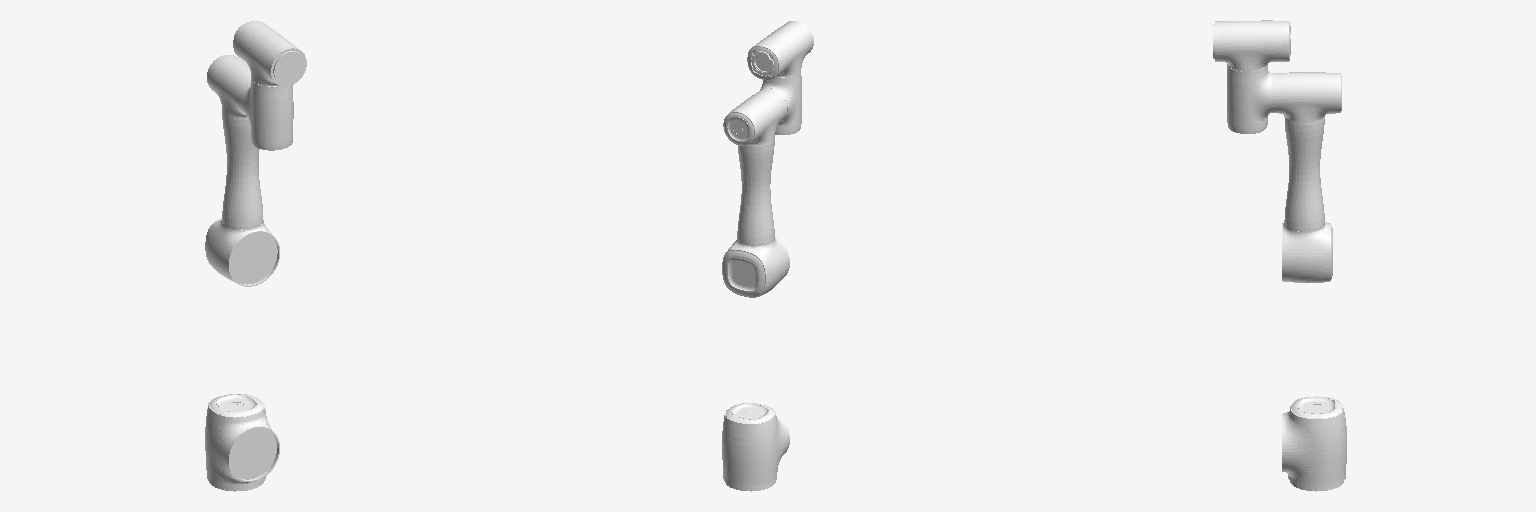
The robot description file, URDF, robot "cr5_robot":
<?xml version="1.0" encoding="utf-8"?>
<!-- This URDF was automatically created by SolidWorks to URDF Exporter! Originally created by [author] ([email redacted]) 
     Commit Version: 1.6.0-1-g15f4949  Build Version: 1.6.7594.29634
     For more information, please see http://wiki.ros.org/sw_urdf_exporter -->
<robot name="cr5_robot">
  <link name="dummy_link" />
  <link name="base_link">
    <inertial>
      <origin xyz="-8.0961E-06 0.0019103 0.028995" rpy="0 0 0" />
      <mass value="0.90882" />
      <inertia
        ixx="0.0014545"
        ixy="4.2968E-08"
        ixz="-1.8199E-07"
        iyy="0.001345"
        iyz="-6.243E-06"
        izz="0.002155" />
    </inertial>
    <visual>
      <origin xyz="0 0 0" rpy="0 0 0" />
      <geometry>
        <mesh filename="package://cr5_description/meshes/cr5/base_link.dae" />
      </geometry>
      <material
        name="">
        <color rgba="0 0 0 1" />
      </material>
    </visual>
    <collision>
      <origin xyz="0 0 0" rpy="0 0 0" />
      <geometry>
        <mesh filename="package://cr5_description/meshes/cr5/base_link.dae" />
      </geometry>
    </collision>
  </link>

  <joint name="dummy_joint" type="fixed">
    <parent link="dummy_link" />
    <child  link="base_link" />
  </joint>


  <link  name="Link1">
    <inertial>
      <origin xyz="-8.7268E-07 -0.0032576 -0.0076748" rpy="0 0 0" />
      <mass value="1.6123" />
      <inertia
        ixx="0.0029122"
        ixy="5.7387E-09"
        ixz="1.9945E-08"
        iyy="0.0028191"
        iyz="0.00044094"
        izz="0.0032836" />
    </inertial>
    <visual>
      <origin xyz="0 0 0" rpy="0 0 0" />
      <geometry>
        <mesh filename="package://cr5_description/meshes/cr5/Link1.dae" />
      </geometry>
      <material
        name="">
        <color rgba="1 1 1 1" />
      </material>
    </visual>
    <collision>
      <origin xyz="0 0 0" rpy="0 0 0" />
      <geometry>
        <mesh filename="package://cr5_description/meshes/cr5/Link1.dae" />
      </geometry>
    </collision>
  </link>

  <joint name="joint1" type="revolute">
    <origin xyz="0 0 0.147" rpy="0 0 0" />
    <parent link="base_link" />
    <child link="Link1" />
    <axis xyz="0 0 1" />
    <limit lower="-3.14" upper="3.14" effort="0" velocity="0" />
  </joint>

  <link name="Link2">
    <inertial>
      <origin xyz="-0.21351 -1.3842E-06 0.14252" rpy="0 0 0" />
      <mass value="5.5186" />
      <inertia
        ixx="0.0085919"
        ixy="7.5552E-07"
        ixz="-7.8922E-07"
        iyy="0.027553"
        iyz="1.4629E-07"
        izz="0.028294" />
    </inertial>
    <visual>
      <origin xyz="0 0 0" rpy="0 0 0" />
      <geometry>
        <mesh filename="package://cr5_description/meshes/cr5/Link2.dae" />
      </geometry>
      <material
        name="">
        <color rgba="1 1 1 1" />
      </material>
    </visual>
    <collision>
      <origin xyz="0 0 0" rpy="0 0 0" />
      <geometry>
        <mesh filename="package://cr5_description/meshes/cr5/Link2.dae" />
      </geometry>
    </collision>
  </link>

  <joint name="joint2" type="revolute">
    <origin xyz="0 0 0" rpy="1.5708 1.5708 0" />
    <parent link="Link1" />
    <child  link="Link2" />
    <axis xyz="0 0 1" />
    <limit lower="-3.14" upper="3.14" effort="0" velocity="0" />
  </joint>

  <link name="Link3">
    <inertial>
      <origin xyz="-0.15231 -1.4079E-07 0.022693" rpy="0 0 0" />
      <mass value="2.8536" />
      <inertia
        ixx="0.0032608"
        ixy="-3.2147E-10"
        ixz="0.00012363"
        iyy="0.0092967"
        iyz="2.9478E-10"
        izz="0.0095552" />
    </inertial>
    <visual>
      <origin xyz="0 0 0" rpy="0 0 0" />
      <geometry>
        <mesh filename="package://cr5_description/meshes/cr5/Link3.dae" />
      </geometry>
      <material
        name="">
        <color rgba="1 1 1 1" />
      </material>
    </visual>
    <collision>
      <origin xyz="0 0 0"  rpy="0 0 0" />
      <geometry>
        <mesh filename="package://cr5_description/meshes/cr5/Link3.dae" />
      </geometry>
    </collision>
  </link>

  <joint name="joint3" type="revolute">
    <origin xyz="-0.427 0 0" rpy="0 0 0" />
    <parent link="Link2" />
    <child link="Link3" />
    <axis  xyz="0 0 1" />
    <limit lower="-3.14"  upper="3.14"  effort="0" velocity="0" />
  </joint>

  <link name="Link4">
    <inertial>
      <origin xyz="-3.2386E-07 -0.002077 -0.0015548" rpy="0 0 0" />
      <mass value="0.67058" />
      <inertia
        ixx="0.00066939"
        ixy="4.1975E-10"
        ixz="-1.0734E-08"
        iyy="0.00065424"
        iyz="0.00011081"
        izz="0.00065365" />
    </inertial>
    <visual>
      <origin xyz="0 0 0" rpy="0 0 0" />
      <geometry>
        <mesh filename="package://cr5_description/meshes/cr5/Link4.dae" />
      </geometry>
      <material name="">
        <color rgba="1 1 1 1" />
      </material>
    </visual>
    <collision>
      <origin xyz="0 0 0" rpy="0 0 0" />
      <geometry>
        <mesh filename="package://cr5_description/meshes/cr5/Link4.dae" />
      </geometry>
    </collision>
  </link>

  <joint name="joint4" type="revolute">
    <origin xyz="-0.357 0 0.141" rpy="0 0 -1.5708" />
    <parent link="Link3" />
    <child link="Link4" />
    <axis xyz="0 0 1" />
    <limit lower="-3.14" upper="3.14" effort="0" velocity="0" />
  </joint>
  <link
    name="Link5">
    <inertial>
      <origin xyz="-3.7738E-07 -0.0045777 -0.0012971" rpy="0 0 0" />
      <mass value="0.7269" />
      <inertia
        ixx="0.00073069"
        ixy="-5.7806E-09"
        ixz="6.7132E-09"
        iyy="0.00071195"
        iyz="-0.00011926"
        izz="0.00071391" />
    </inertial>
    <visual>
      <origin xyz="0 0 0" rpy="0 0 0" />
      <geometry>
        <mesh filename="package://cr5_description/meshes/cr5/Link5.dae" />
      </geometry>
      <material name="">
        <color rgba="1 1 1 1" />
      </material>
    </visual>
    <collision>
      <origin xyz="0 0 0" rpy="0 0 0" />
      <geometry>
        <mesh filename="package://cr5_description/meshes/cr5/Link5.dae" />
      </geometry>
    </collision>
  </link>

  <joint name="joint5" type="revolute">
    <origin xyz="0 -0.116 0" rpy="1.5708 0 0" />
    <parent link="Link4" />
    <child link="Link5" />
    <axis xyz="0 0 1" />
    <limit lower="-3.14" upper="3.14" effort="0" velocity="0" />
  </joint>

  <link name="Link6">
    <inertial>
      <origin xyz="5.0777E-11 9.3774E-05 -0.019285" rpy="0 0 0" />
      <mass value="0.15789" />
      <inertia
        ixx="7.8045E-05"
        ixy="6.1582E-15"
        ixz="6.2471E-14"
        iyy="7.9168E-05"
        iyz="-1.3822E-07"
        izz="0.00012951" />
    </inertial>
    <visual>
      <origin xyz="0 0 0" rpy="0 0 0" />
      <geometry>
        <mesh filename="package://cr5_description/meshes/cr5/Link6.dae" />
      </geometry>
      <material name="">
        <color rgba="1 1 1 1" />
      </material>
    </visual>
    <collision>
      <origin xyz="0 0 0" rpy="0 0 0" />
      <geometry>
        <mesh filename="package://cr5_description/meshes/cr5/Link6.dae" />
      </geometry>
    </collision>
  </link>

  <joint name="joint6" type="revolute">
    <origin xyz="0 0.105 0"  rpy="-1.5708 0 0" />
    <parent link="Link5" />
    <child link="Link6" />
    <axis xyz="0 0 1" />
    <limit lower="-3.14" upper="3.14" effort="0" velocity="0" />
  </joint>

</robot>

--- What the picture shows (computed from the rendered views, not written in the file) ---
Views: 3 orthographic renders of the robot side by side, from view 1: azimuth 30°, elevation 25°; view 2: azimuth 150°, elevation 25°; view 3: azimuth 270°, elevation 25°.
Model cr5_robot with 8 links and 7 joints (6 revolute, 1 fixed), rooted at dummy_link, posed every joint at zero.
Visible links, largest first — view 1: Link3, Link1, Link5, Link4; view 2: Link3, Link1, Link5, Link4; view 3: Link3, Link1, Link5, Link4.
Link boxes in pixels (x1=…): Link3: x1=205, y1=55, x2=279, y2=286; Link1: x1=205, y1=394, x2=279, y2=491; Link5: x1=233, y1=20, x2=306, y2=86; Link4: x1=242, y1=78, x2=293, y2=150; Link3: x1=722, y1=88, x2=789, y2=297; Link1: x1=722, y1=403, x2=789, y2=491; Link5: x1=747, y1=21, x2=813, y2=80; Link4: x1=760, y1=72, x2=801, y2=134; Link3: x1=1272, y1=72, x2=1341, y2=282; Link1: x1=1282, y1=396, x2=1346, y2=491; Link5: x1=1213, y1=20, x2=1290, y2=71; Link4: x1=1227, y1=64, x2=1271, y2=133.
Bounding box of the posed robot: 0.1231 × 0.2733 × 1.03 m (x, y, z).
4 mesh visuals loaded from 7 distinct referenced files (4 Collada DAE); not drawn: 3 (reference not matched to a file when rendering).